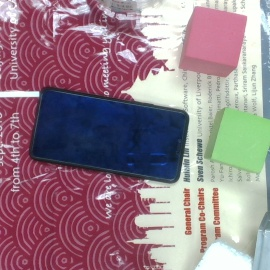phone: (31, 87, 190, 184)
